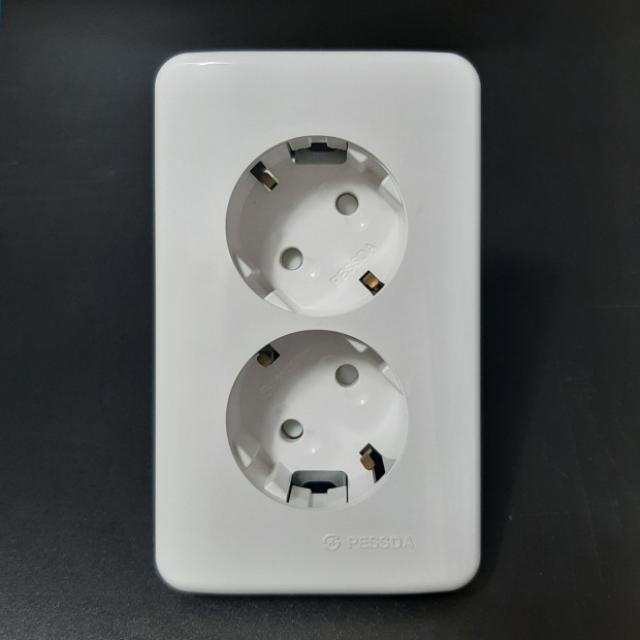typeb: (127, 27, 557, 635)
